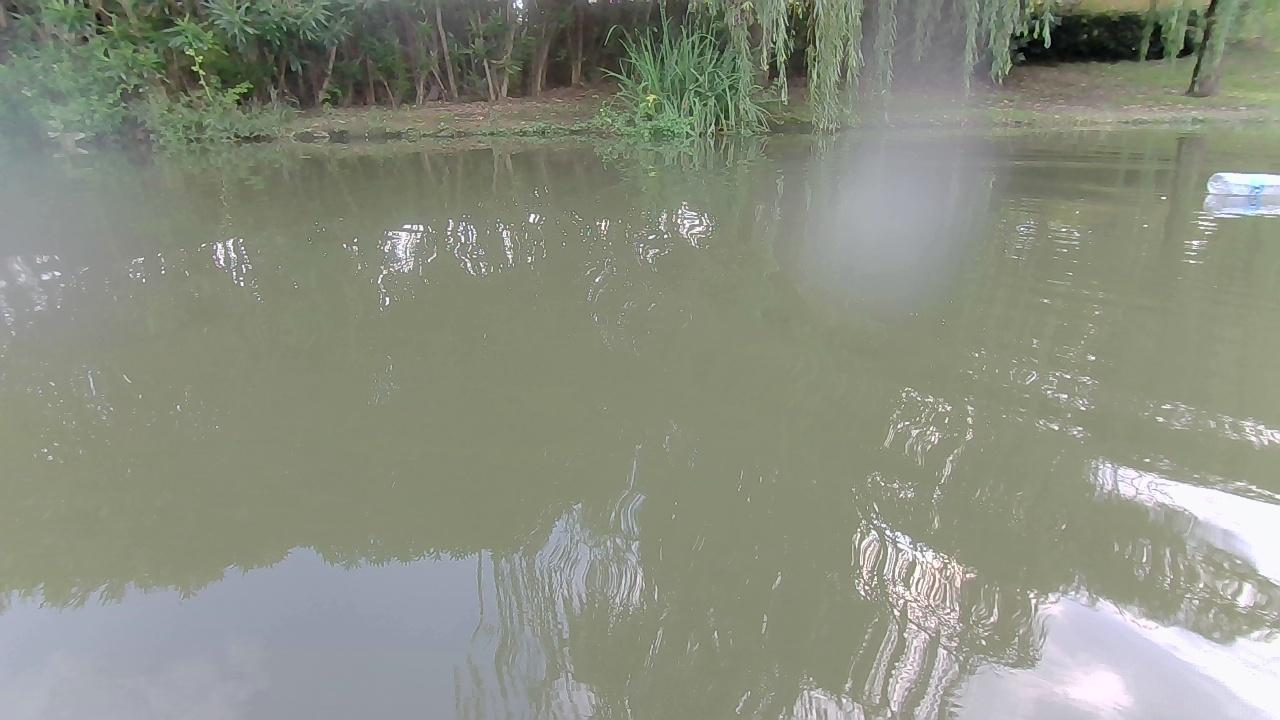bottle: (1205, 162, 1279, 197)
